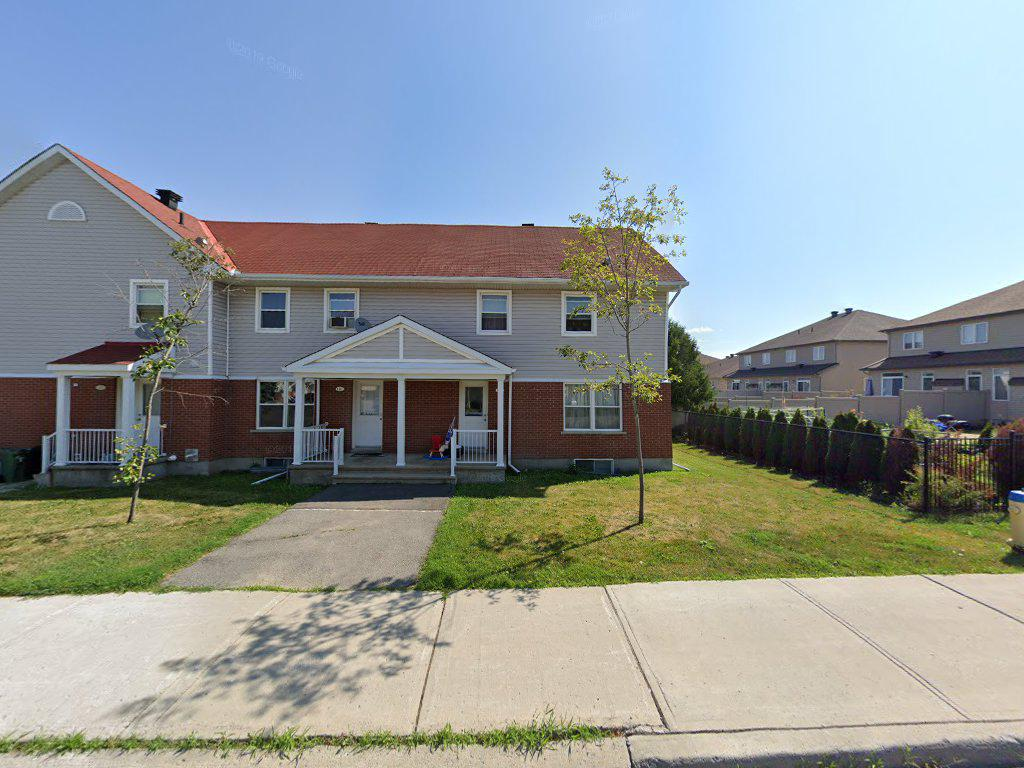trunk: (630, 387, 654, 535)
